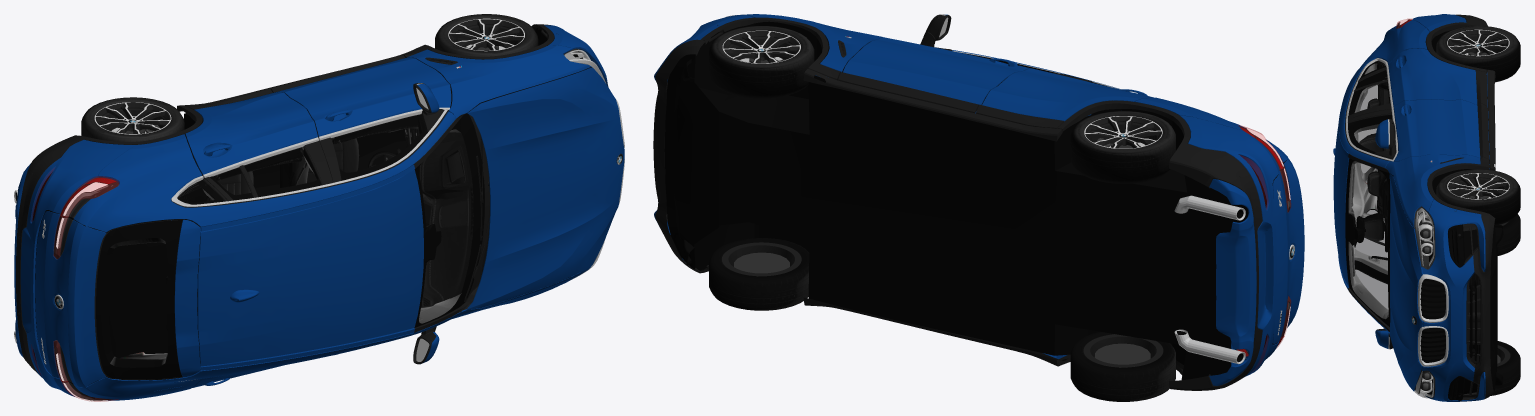
3 views of the same model, side by side, from view 1: azimuth 30°, elevation 25°; view 2: azimuth 150°, elevation 25°; view 3: azimuth 270°, elevation 25° (orthographic). The views are drawn at different scales.
Visible parts, largest first — view 1: body_mesh, wheel_RL_mesh, wheel_FL_mesh; view 2: body_mesh, wheel_RL_mesh, wheel_FL_mesh, wheel_FR_mesh, wheel_RR_mesh; view 3: body_mesh, wheel_FL_mesh, wheel_RL_mesh, wheel_FR_mesh, wheel_RR_mesh.
Boxes of the visible parts, <box> form: body_mesh: <box>14,24,624,401</box>; wheel_RL_mesh: <box>81,97,184,141</box>; wheel_FL_mesh: <box>435,14,538,56</box>; body_mesh: <box>653,14,1304,390</box>; wheel_RL_mesh: <box>1070,111,1175,183</box>; wheel_FL_mesh: <box>709,26,814,98</box>; wheel_FR_mesh: <box>709,238,809,310</box>; wheel_RR_mesh: <box>1070,331,1175,401</box>; body_mesh: <box>1333,14,1503,401</box>; wheel_FL_mesh: <box>1436,169,1520,224</box>; wheel_RL_mesh: <box>1436,26,1520,82</box>; wheel_FR_mesh: <box>1490,341,1520,395</box>; wheel_RR_mesh: <box>1497,214,1520,255</box>.
Size of the model in its own units: 4.75 by 2.16 by 1.61.
32 materials, 12 textured.
